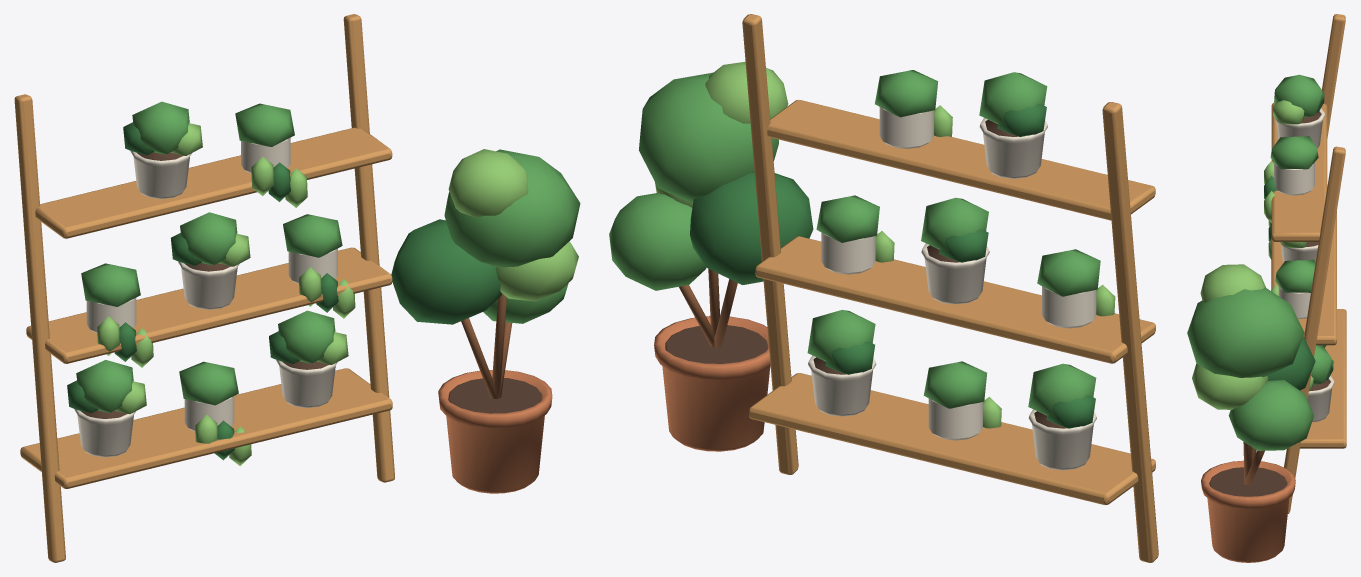
File: plant_wall_l2.glb
3 renders of one model, left to right at view 1: azimuth 30°, elevation 25°; view 2: azimuth 150°, elevation 25°; view 3: azimuth 270°, elevation 25°, orthographic. The views are drawn at different scales.
Visible parts, largest first — view 1: plant_wall_l2; view 2: plant_wall_l2; view 3: plant_wall_l2.
Boxes of the visible parts, x1,y1,x2,y2 form: plant_wall_l2: (14,14,580,562); plant_wall_l2: (609,14,1158,562); plant_wall_l2: (1187,14,1346,562).
Size of the model in its own units: 1.9 by 1.59 by 0.6305.
